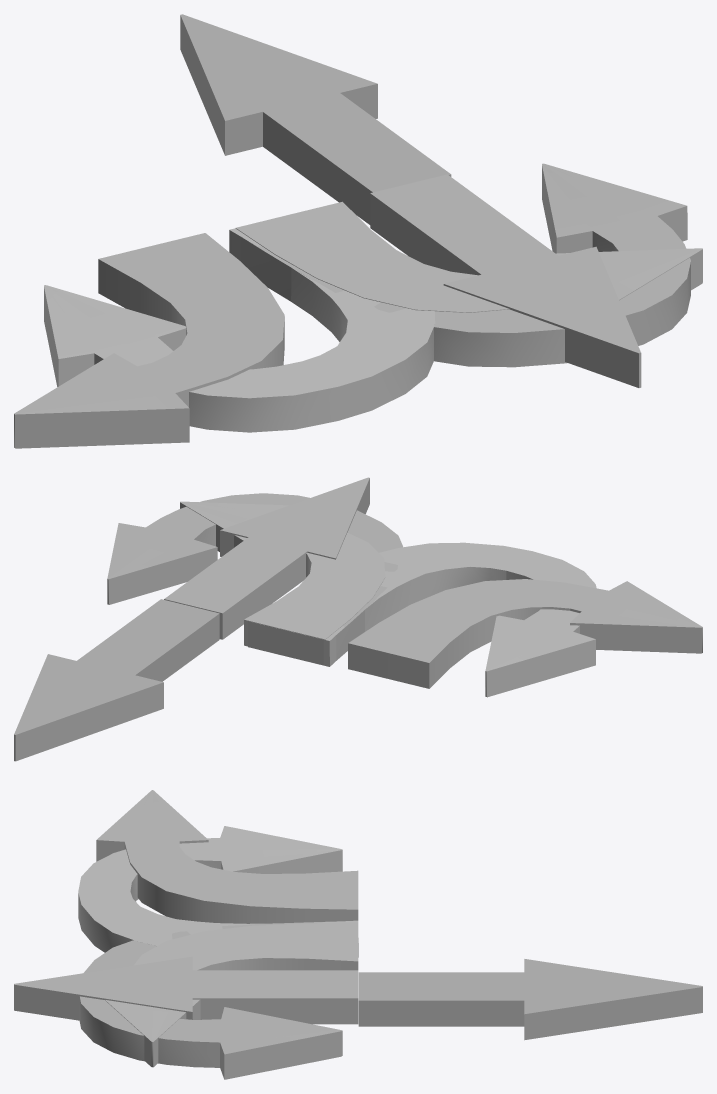
File: player_arrow.glb
3 views of the same model, one above another, from view 1: azimuth 30°, elevation 25°; view 2: azimuth 150°, elevation 25°; view 3: azimuth 270°, elevation 25° (orthographic). The views are drawn at different scales.
Visible parts, largest first — view 1: leftArrow, leftReturnArrow, downArrow, upArrow, rightReturnArrow, rightArrow; view 2: leftArrow, downArrow, leftReturnArrow, upArrow, rightReturnArrow, rightArrow; view 3: downArrow, leftArrow, upArrow, rightReturnArrow, leftReturnArrow, rightArrow.
Part boxes in pixels (box(x1,y1,x2,y2)): leftArrow: box(14, 233, 284, 448); leftReturnArrow: box(44, 228, 435, 432); downArrow: box(180, 14, 451, 224); upArrow: box(370, 174, 641, 387); rightReturnArrow: box(241, 163, 690, 367); rightArrow: box(235, 201, 702, 312); leftArrow: box(348, 579, 702, 688); downArrow: box(14, 599, 219, 761); leftReturnArrow: box(249, 542, 596, 697); upArrow: box(164, 477, 369, 639); rightReturnArrow: box(107, 493, 402, 665); rightArrow: box(180, 501, 385, 646); downArrow: box(358, 959, 702, 1040); leftArrow: box(96, 790, 358, 923); upArrow: box(14, 956, 358, 1024); rightReturnArrow: box(79, 921, 358, 1079); leftReturnArrow: box(78, 826, 358, 952); rightArrow: box(105, 922, 358, 1067).
Size of the model in its own units: 2.15 by 0.1063 by 2.39.
Materials: 1 (1 with a texture image).
